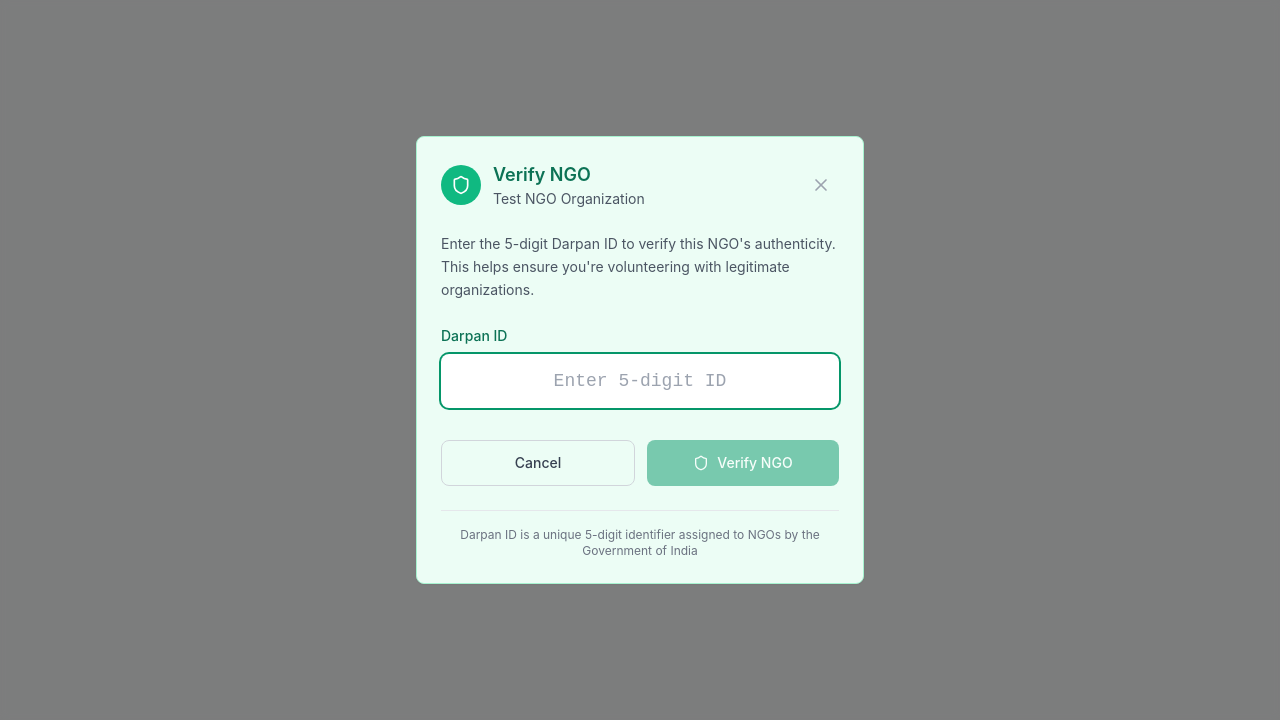
it: VerificationModal › disables buttons during loading state
The width and height of the screenshot is (1280, 720).
In the field labelled "Darpan ID": (640, 381) [441, 354, 839, 408], type "12345"
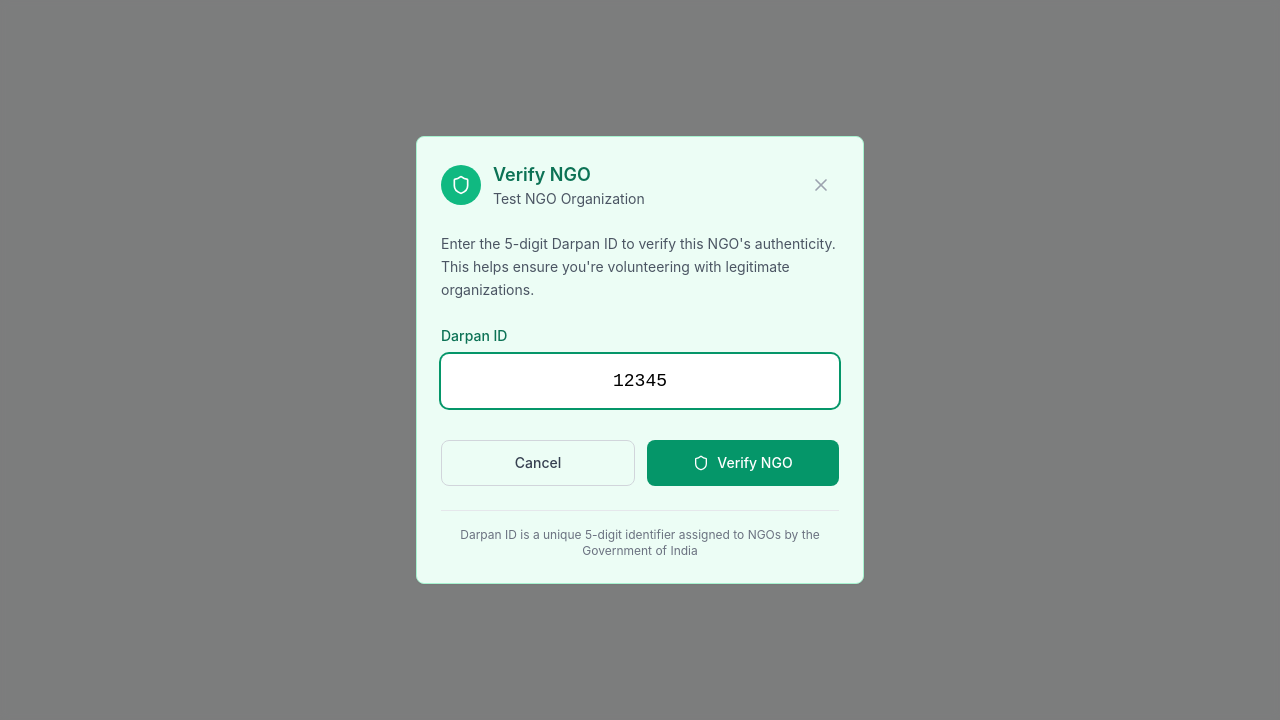
Click the button "Verify NGO": (743, 463) [647, 440, 839, 486]
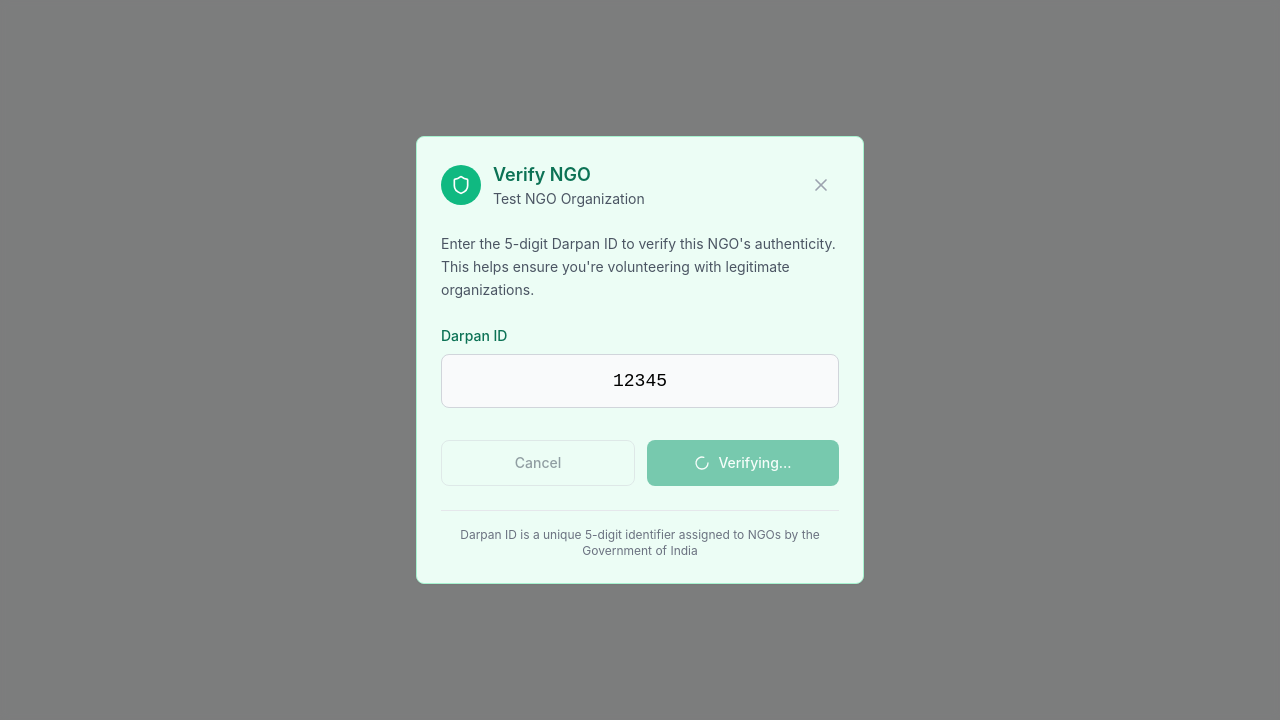
Expected: the text "Verifying..." is shown, [718, 453, 792, 473]
Expected: the button named "verify ngo" is disabled, [647, 440, 839, 486]
Expected: the button "Cancel" is disabled, [441, 440, 635, 486]
